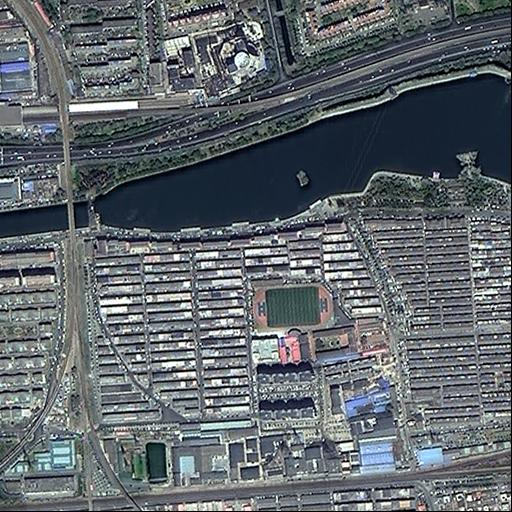school: (247, 276, 391, 361)
